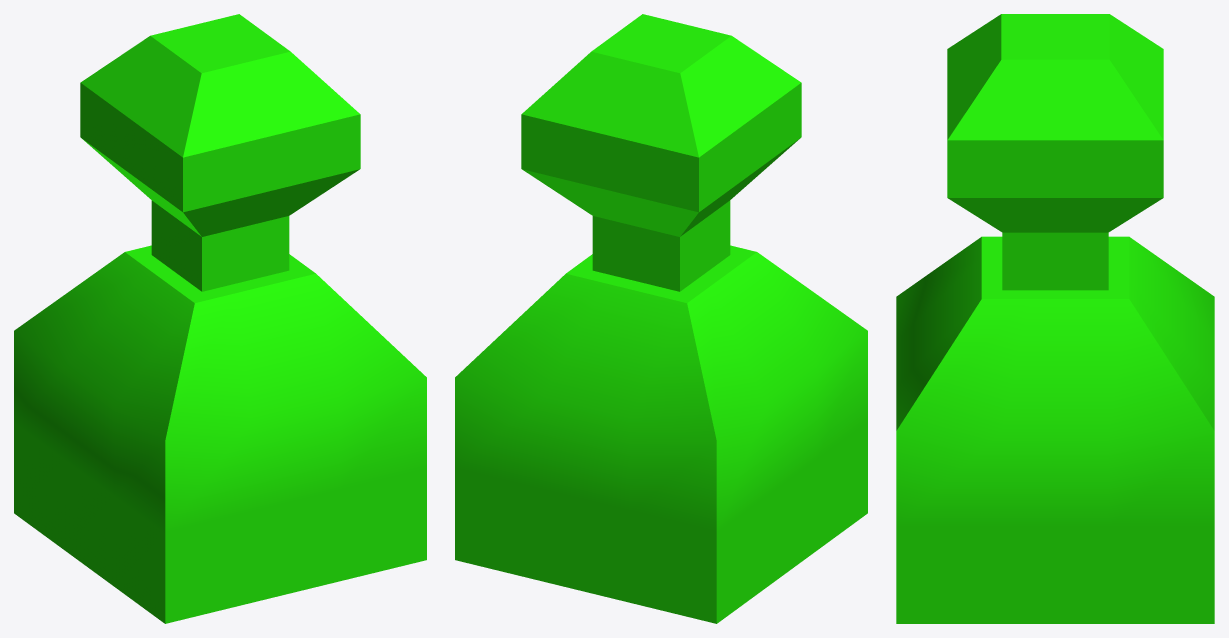
File: Testtower.FBX
3 views of the same model, side by side, from view 1: azimuth 30°, elevation 25°; view 2: azimuth 150°, elevation 25°; view 3: azimuth 270°, elevation 25° (orthographic). The views are drawn at different scales.
Visible parts, largest first — view 1: Box001; view 2: Box001; view 3: Box001.
Boxes of the visible parts, <box> form: Box001: <box>14,14,426,623</box>; Box001: <box>455,14,867,623</box>; Box001: <box>896,14,1214,623</box>.
Size of the model in its own units: 39.37 by 70.87 by 39.37.
